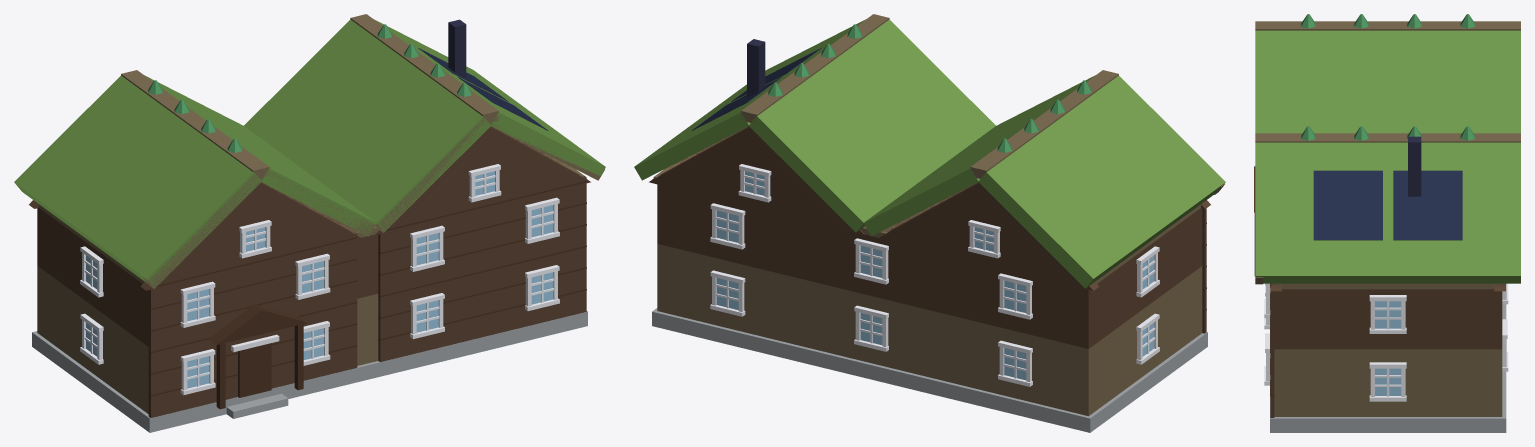
File: house-2x1-2f-turf-a-solar.glb
The picture shows the model from 3 angles, left to right: view 1: azimuth 30°, elevation 25°; view 2: azimuth 150°, elevation 25°; view 3: azimuth 270°, elevation 25°; orthographic projection.
Parts seen in each view (by area): view 1: house-2x1-2f-turf-a-solar; view 2: house-2x1-2f-turf-a-solar; view 3: house-2x1-2f-turf-a-solar.
Part boxes in pixels (left/top/right/bottom): house-2x1-2f-turf-a-solar: left=14, top=14, right=605, bottom=432; house-2x1-2f-turf-a-solar: left=634, top=14, right=1225, bottom=432; house-2x1-2f-turf-a-solar: left=1254, top=14, right=1520, bottom=432.
Bounding box in the file's own units: 2 × 1.1 × 1.
Materials: 1 (1 with a texture image).
